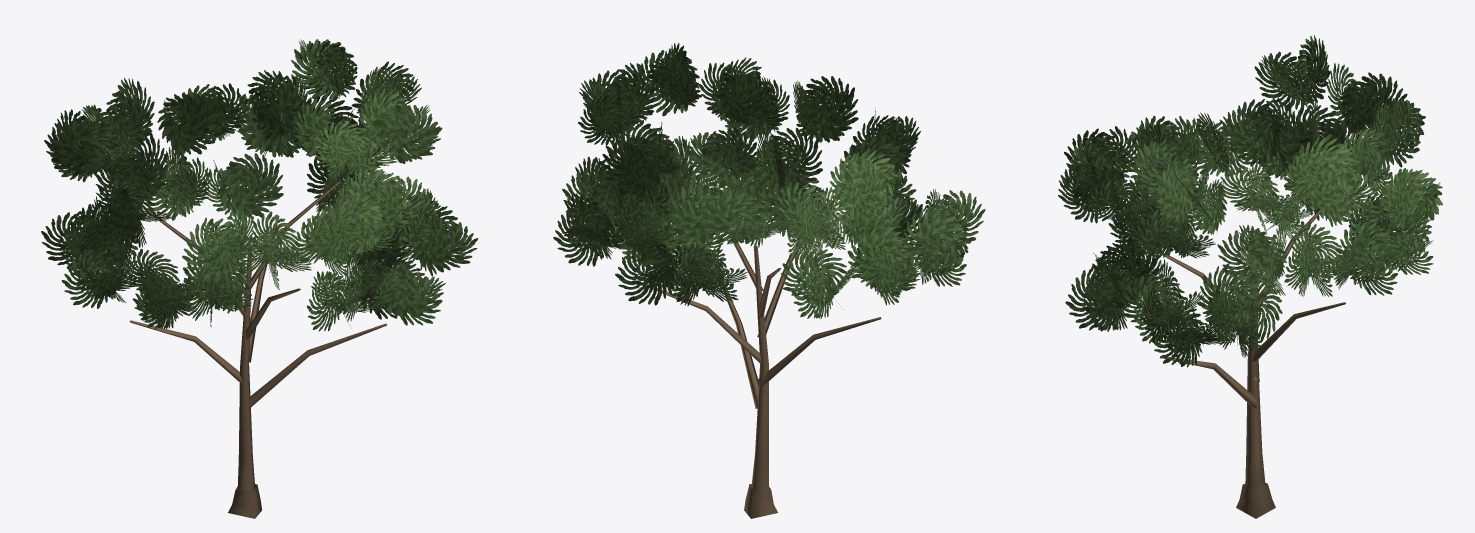
The picture shows the model from 3 angles, left to right: view 1: azimuth 30°, elevation 25°; view 2: azimuth 150°, elevation 25°; view 3: azimuth 270°, elevation 25°; orthographic projection.
Parts seen in each view (by area): view 1: Preserved terminal foliage sprays, Connected simplified trunk and branches; view 2: Preserved terminal foliage sprays, Connected simplified trunk and branches; view 3: Preserved terminal foliage sprays, Connected simplified trunk and branches.
Part boxes in pixels (left/top/right/bottom): Preserved terminal foliage sprays: left=41, top=39, right=478, bottom=331; Connected simplified trunk and branches: left=129, top=181, right=386, bottom=518; Preserved terminal foliage sprays: left=553, top=43, right=985, bottom=318; Connected simplified trunk and branches: left=641, top=173, right=881, bottom=518; Preserved terminal foliage sprays: left=1058, top=35, right=1442, bottom=367; Connected simplified trunk and branches: left=1139, top=209, right=1345, bottom=518.
Bounding box in the file's own units: 9.92 × 10.07 × 8.75.
